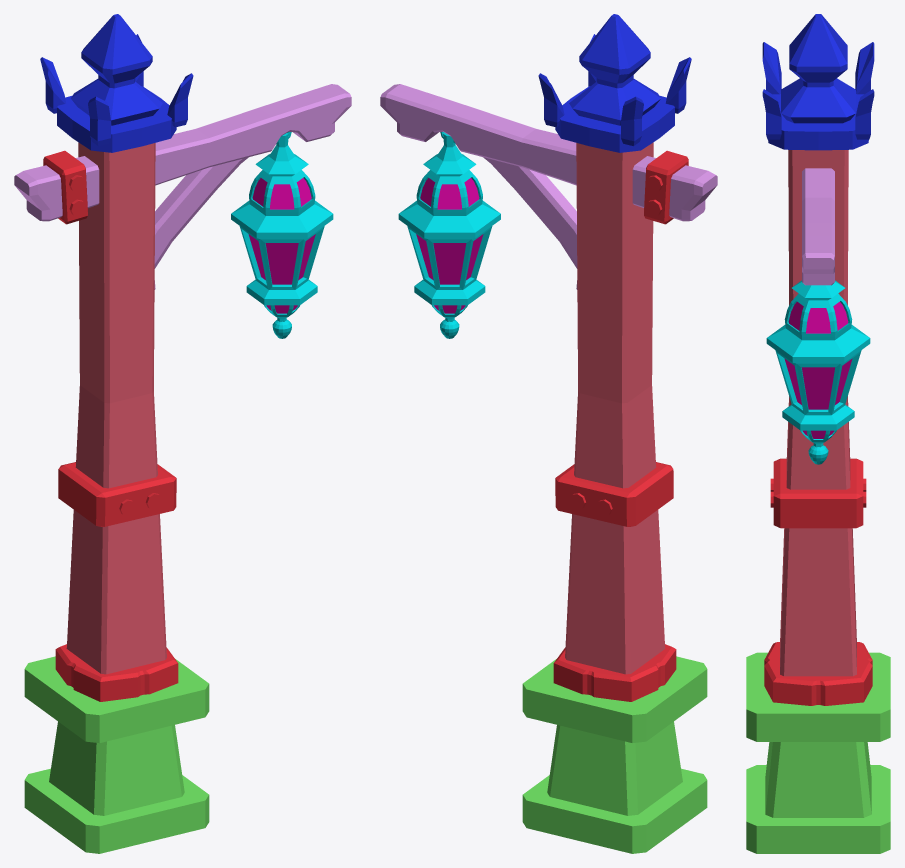
File: Street_Lamp.fbx
The picture shows the model from 3 angles, left to right: view 1: azimuth 30°, elevation 25°; view 2: azimuth 150°, elevation 25°; view 3: azimuth 270°, elevation 25°; orthographic projection.
Parts seen in each view (by area): view 1: Street_Lamp; view 2: Street_Lamp; view 3: Street_Lamp.
Part boxes in pixels (x1,y1,x2,y2): Street_Lamp: (14, 14, 351, 853); Street_Lamp: (380, 14, 717, 853); Street_Lamp: (746, 14, 890, 853).
Size of the model in its own units: 183 by 433 by 70.
